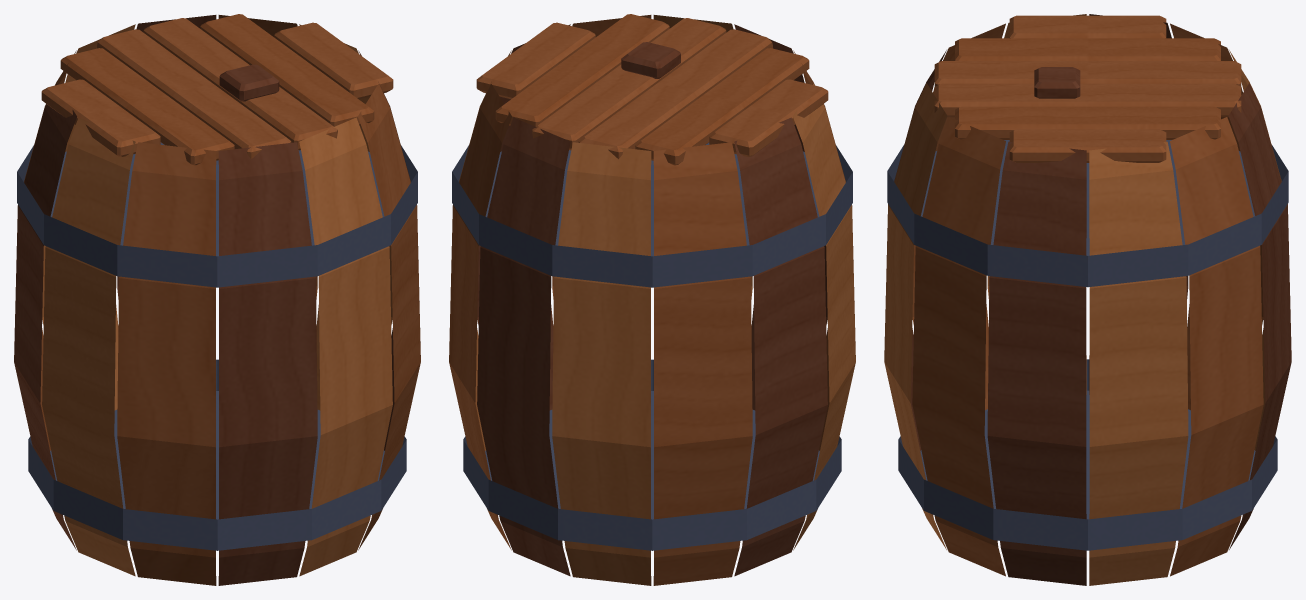
Rendered from Prop_Barrel.obj.
The picture shows the model from 3 angles, left to right: view 1: azimuth 30°, elevation 25°; view 2: azimuth 150°, elevation 25°; view 3: azimuth 270°, elevation 25°; orthographic projection.
Parts seen in each view (by area): view 1: Oak_staves, Lid_planks, Iron_hoops, Bung; view 2: Oak_staves, Lid_planks, Iron_hoops, Bung; view 3: Oak_staves, Lid_planks, Iron_hoops, Bung.
Boxes of the visible parts, x1,y1,x2,y2 form: Oak_staves: [14, 15, 420, 585]; Lid_planks: [41, 14, 393, 165]; Iron_hoops: [17, 142, 417, 550]; Bung: [219, 64, 279, 101]; Oak_staves: [449, 15, 855, 585]; Lid_planks: [476, 14, 828, 165]; Iron_hoops: [452, 142, 852, 550]; Bung: [621, 42, 680, 78]; Oak_staves: [884, 14, 1291, 585]; Lid_planks: [934, 15, 1241, 162]; Iron_hoops: [887, 140, 1288, 550]; Bung: [1034, 67, 1080, 98].
Size of the model in its own units: 1.06 by 1.29 by 1.06.
Materials: 4 (4 with a texture image).
